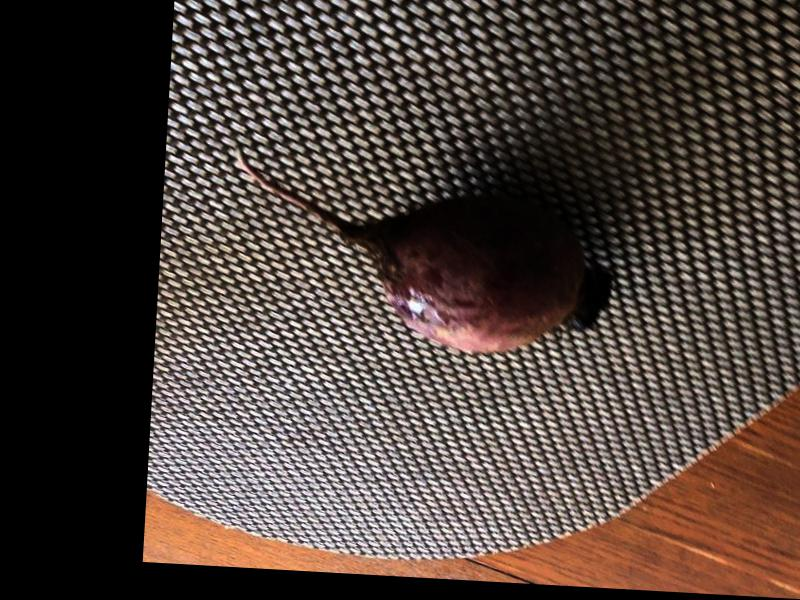Beet: (224, 146, 619, 359)
